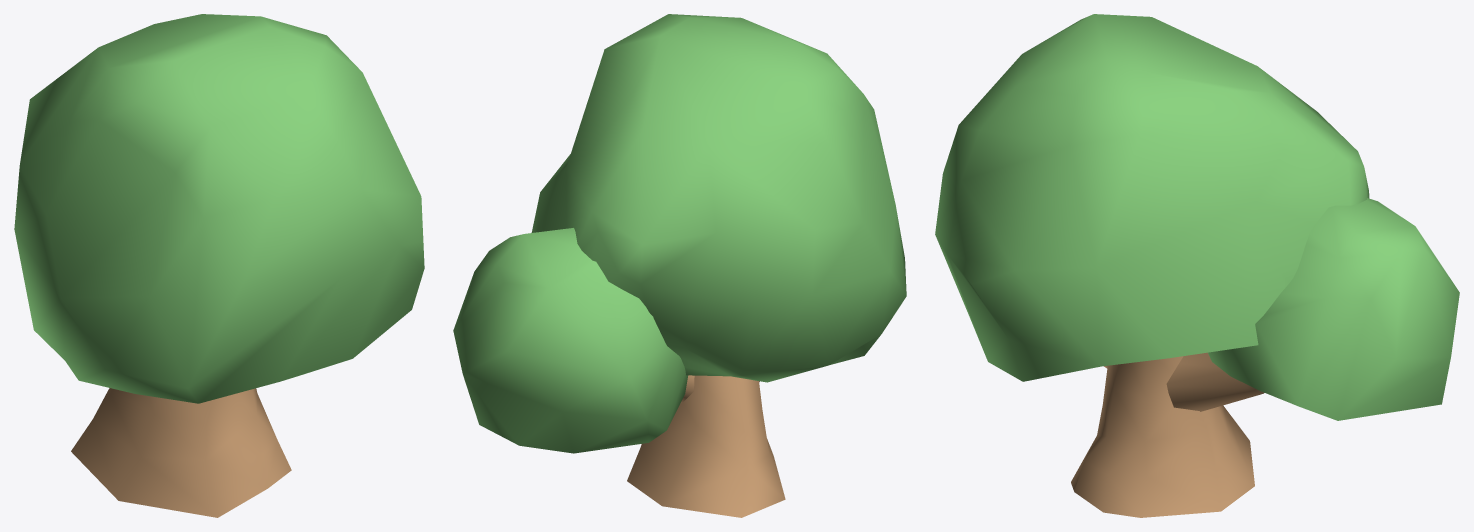
Rendered from Tree_v2.fbx.
3 renders of one model, left to right at view 1: azimuth 30°, elevation 25°; view 2: azimuth 150°, elevation 25°; view 3: azimuth 270°, elevation 25°, orthographic. The views are drawn at different scales.
Parts seen in each view (by area): view 1: Volume7_copy003_1, Polygon; view 2: Volume7_copy003_1, Volume7_copy004_1, Polygon; view 3: Volume7_copy003_1, Volume7_copy004_1, Polygon, Sweep.
Part boxes in pixels (x1=…): Volume7_copy003_1: x1=14, y1=14, x2=424, y2=403; Polygon: x1=71, y1=388, x2=291, y2=517; Volume7_copy003_1: x1=531, y1=14, x2=906, y2=382; Volume7_copy004_1: x1=453, y1=228, x2=688, y2=453; Polygon: x1=627, y1=375, x2=785, y2=517; Volume7_copy003_1: x1=935, y1=14, x2=1369, y2=381; Volume7_copy004_1: x1=1208, y1=198, x2=1459, y2=420; Polygon: x1=1071, y1=356, x2=1254, y2=517; Sweep: x1=1166, y1=352, x2=1264, y2=411.
Bounding box in the file's own units: 476 × 618 × 642.
